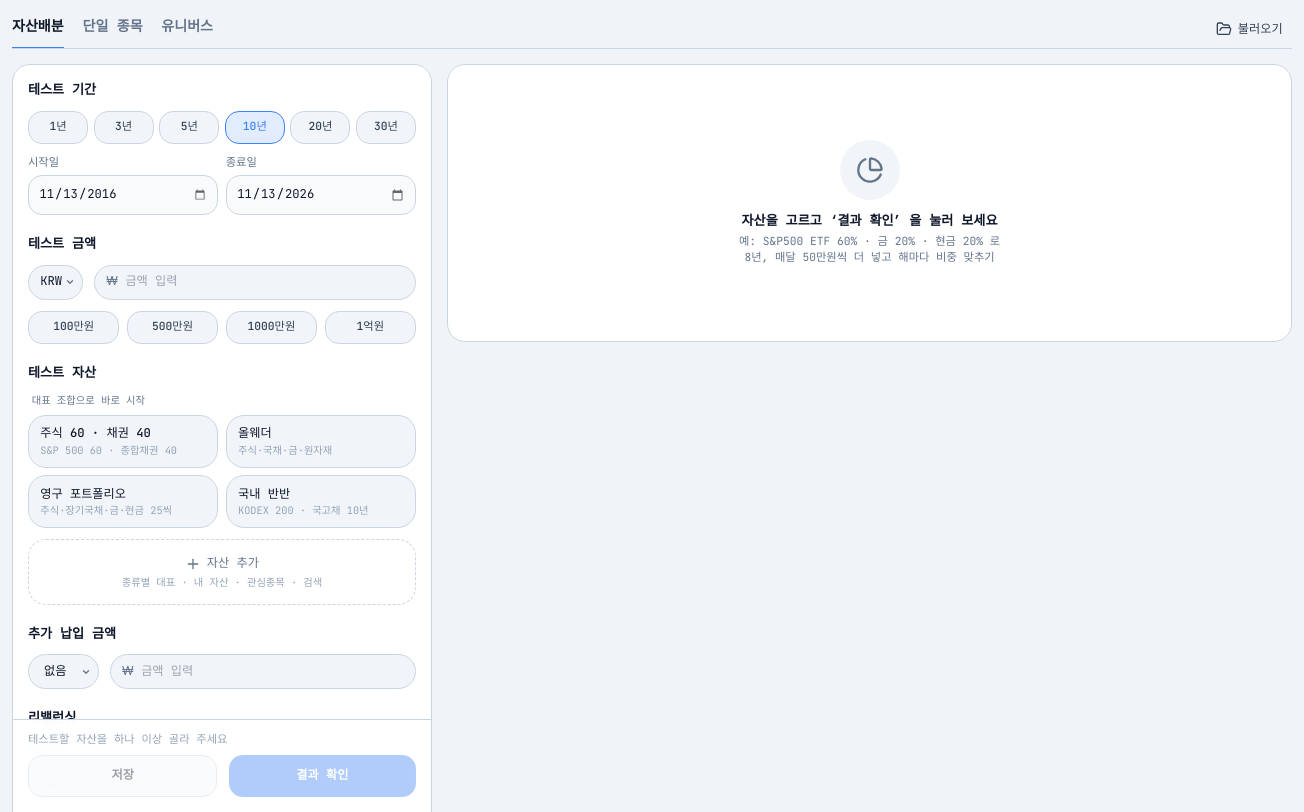
Scenario: 유니버스는 생존 편향을 말한다 › 서버가 경고를 안 주면 아무것도 안 그린다
This screenshot has width=1304, height=812.
Click the tab "유니버스": [187, 30] box [161,12,213,49]
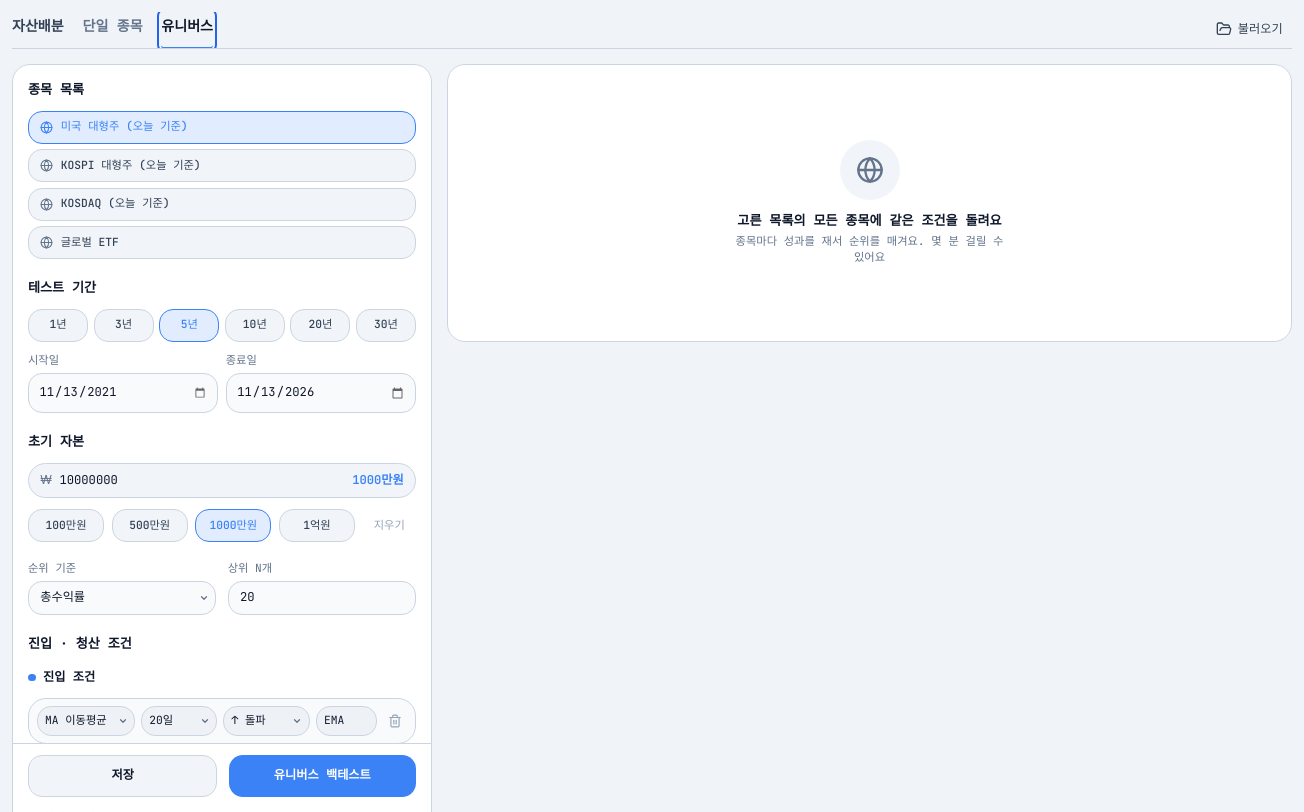
Click the button "유니버스 백테스트": [322, 776] box [229,755,416,797]
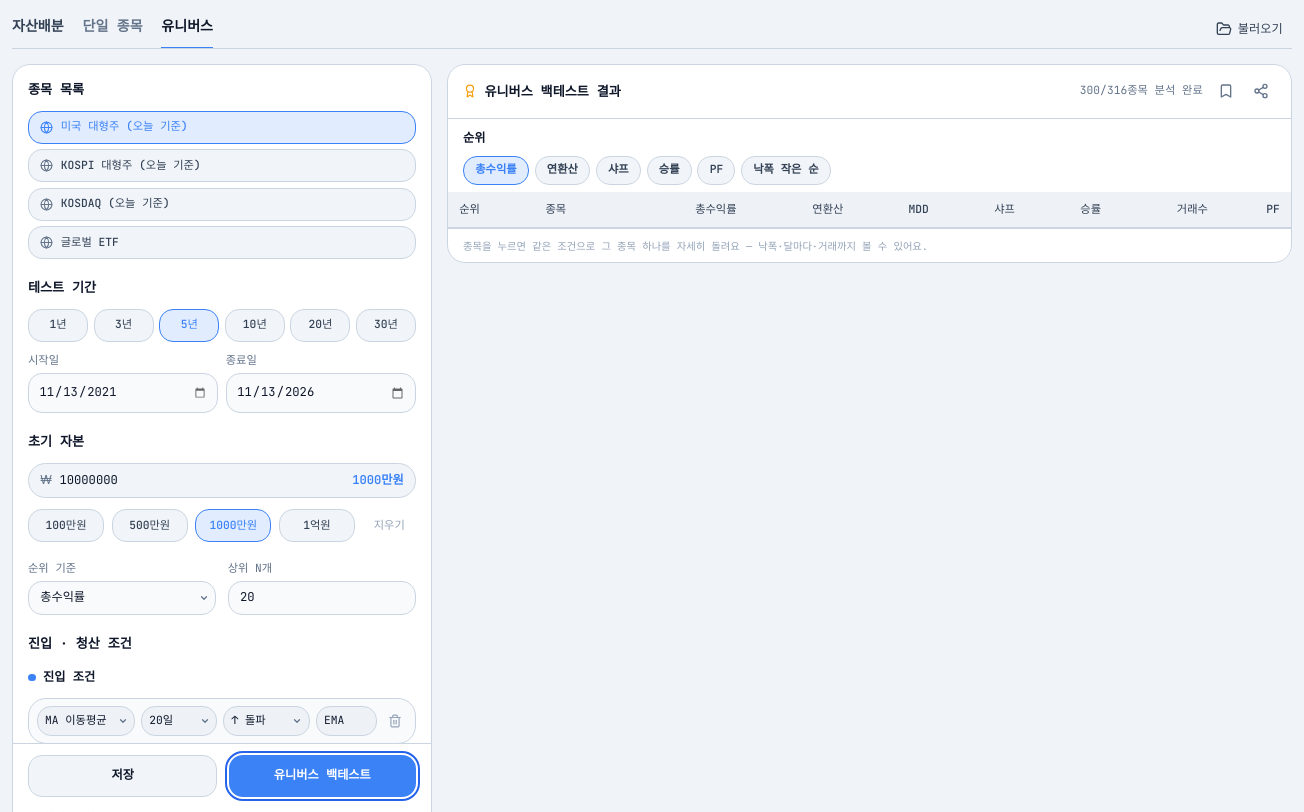
Result: the text "300/316종목 분석 완료" is shown at [1080,84,1203,99]
